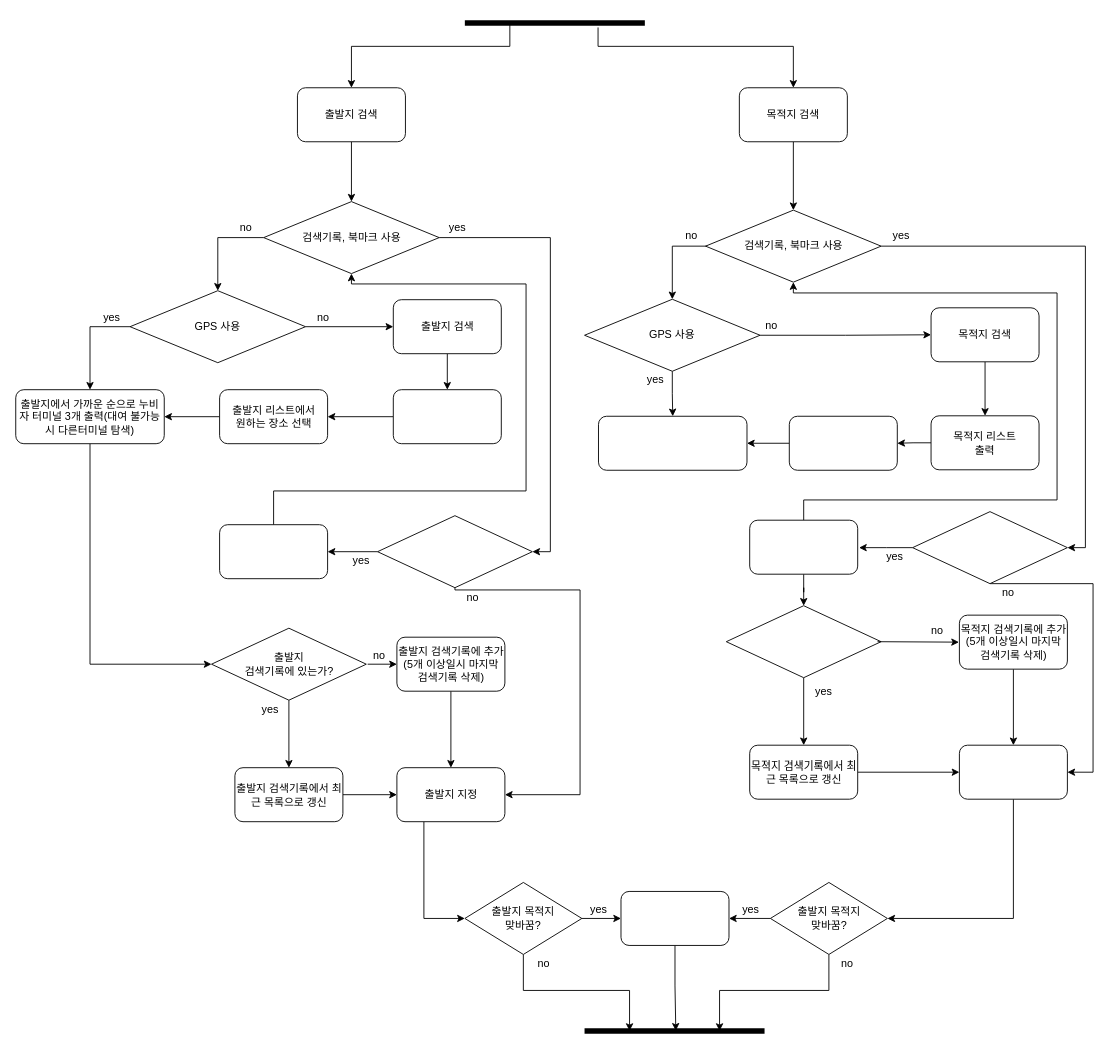
This 1116x1054 diagram has some shape labels left out. Each missing label, with the centre of its shape:
"목적지 검색기록에 있는가?" belongs at (803,641).
"목적지 리스트에서 원하는 장소 선택" belongs at (842,442).
"목적지 북마크 저장" belongs at (803,546).
"목적지 북마크 추가?" belongs at (989,547).
"목적지 지정" belongs at (1012,771).
"목적지에서 가까운 순으로 누비자 터미널 3개 출력(반납 불가능 시 다른터미널 탐색)" belongs at (672,442).
"최근 기록에서 북마크 추가?" belongs at (454,551).
"출발지 리스트 출력" belongs at (446,416).
"출발지 북마크 저장" belongs at (273,551).
"출발지, 목적지 맞바꿈" belongs at (674,918).
